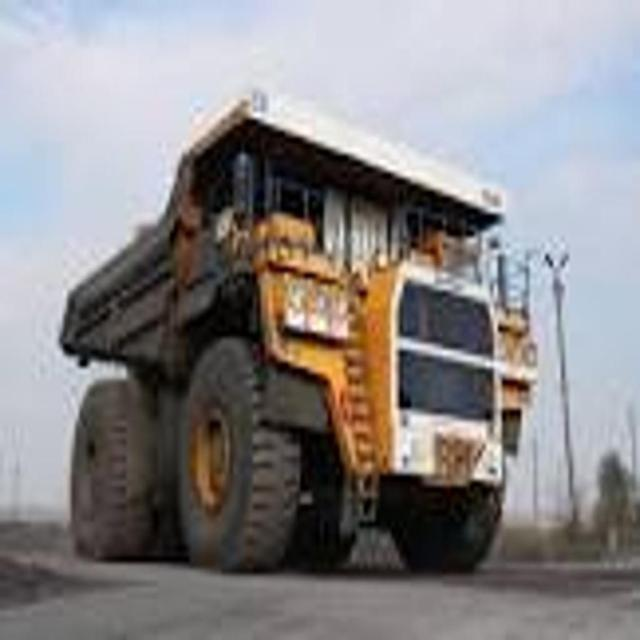dump_truck: (61, 80, 528, 600)
